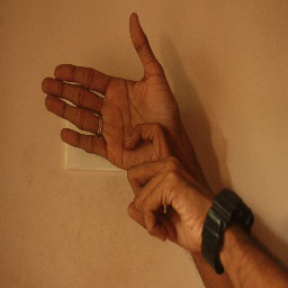R: (43, 11, 192, 212)
